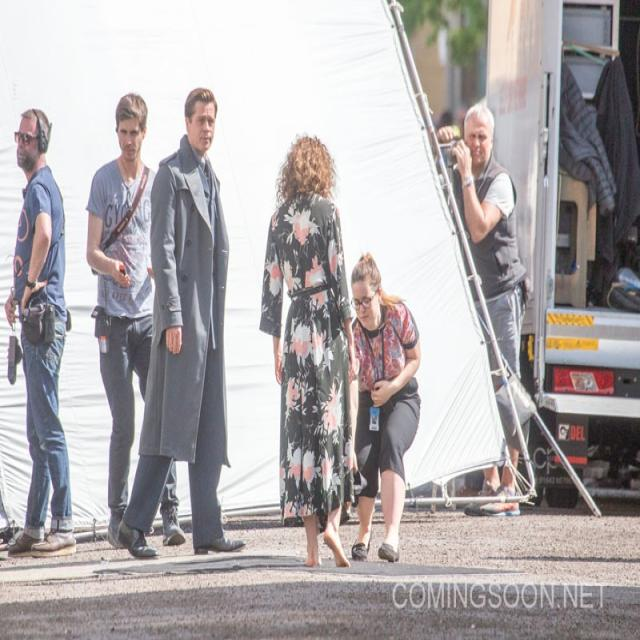body: (113, 81, 250, 566), (84, 90, 186, 550), (254, 130, 356, 575), (430, 98, 532, 519), (1, 102, 80, 561), (342, 251, 422, 563), (426, 98, 462, 143)
